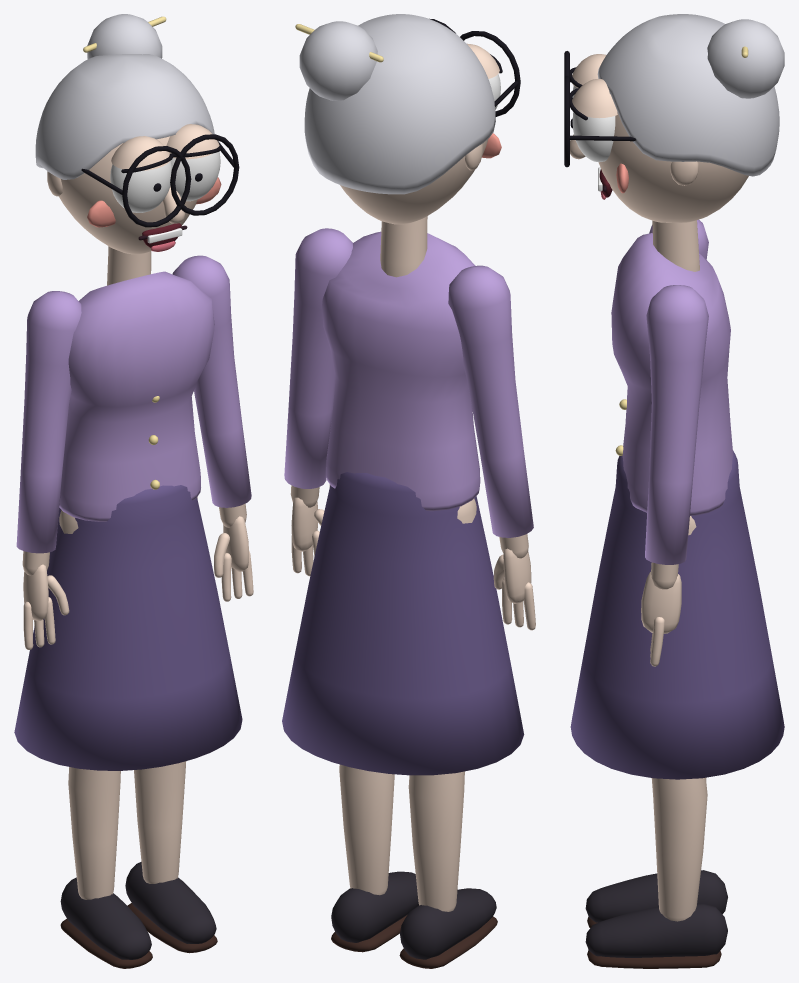
File: odette.glb
3 renders of one model, left to right at view 1: azimuth 30°, elevation 25°; view 2: azimuth 150°, elevation 25°; view 3: azimuth 270°, elevation 25°, orthographic. The views are drawn at different scales.
Visible parts, largest first — view 1: Torso_skirt, Torso_top, Hair_cap, Arm_0_sleeve, Arm_1_sleeve, Leg_0_limb, Leg_1_limb, Head_skull, Leg_0_shoe, Leg_1_shoe, Hair_bun, Eye_0_white (+13 smaller); view 2: Torso_skirt, Torso_top, Hair_cap, Arm_0_sleeve, Arm_1_sleeve, Leg_0_limb, Leg_1_limb, Hair_bun, Leg_0_shoe, Leg_1_shoe, Head_skull, Neck (+7 smaller); view 3: Torso_skirt, Hair_cap, Torso_top, Arm_1_sleeve, Head_skull, Leg_1_limb, Leg_1_shoe, Hair_bun, Leg_0_shoe, Neck, Arm_1_hand, Leg_1_sole (+6 smaller).
Boxes of the visible parts, x1,y1,x2,y2 form: Torso_skirt: [14, 485, 242, 770]; Torso_top: [59, 271, 214, 521]; Hair_cap: [35, 54, 214, 179]; Arm_0_sleeve: [16, 291, 81, 553]; Arm_1_sleeve: [172, 255, 251, 507]; Leg_0_limb: [59, 510, 120, 899]; Leg_1_limb: [134, 497, 197, 883]; Head_skull: [59, 136, 197, 254]; Leg_0_shoe: [60, 877, 151, 959]; Leg_1_shoe: [125, 862, 216, 943]; Hair_bun: [87, 14, 162, 58]; Eye_0_white: [110, 161, 171, 212]; Torso_skirt: [282, 472, 524, 775]; Torso_top: [322, 231, 480, 511]; Hair_cap: [304, 14, 495, 194]; Arm_0_sleeve: [448, 265, 533, 537]; Arm_1_sleeve: [284, 228, 352, 488]; Leg_0_limb: [408, 498, 476, 911]; Leg_1_limb: [329, 484, 394, 895]; Hair_bun: [299, 21, 377, 100]; Leg_0_shoe: [400, 888, 496, 959]; Leg_1_shoe: [331, 871, 418, 942]; Head_skull: [340, 139, 487, 224]; Neck: [380, 216, 427, 277]; Torso_skirt: [570, 450, 784, 779]; Hair_cap: [597, 14, 779, 176]; Torso_top: [611, 233, 733, 515]; Arm_1_sleeve: [645, 285, 708, 564]; Head_skull: [598, 112, 748, 222]; Leg_1_limb: [651, 516, 707, 921]; Leg_1_shoe: [585, 903, 727, 957]; Hair_bun: [707, 19, 784, 98]; Leg_0_shoe: [585, 870, 727, 922]; Neck: [652, 220, 699, 271]; Arm_1_hand: [641, 572, 681, 633]; Leg_1_sole: [587, 950, 721, 968].
Bounding box in the file's own units: 0.4186 × 1.54 × 0.3278.
